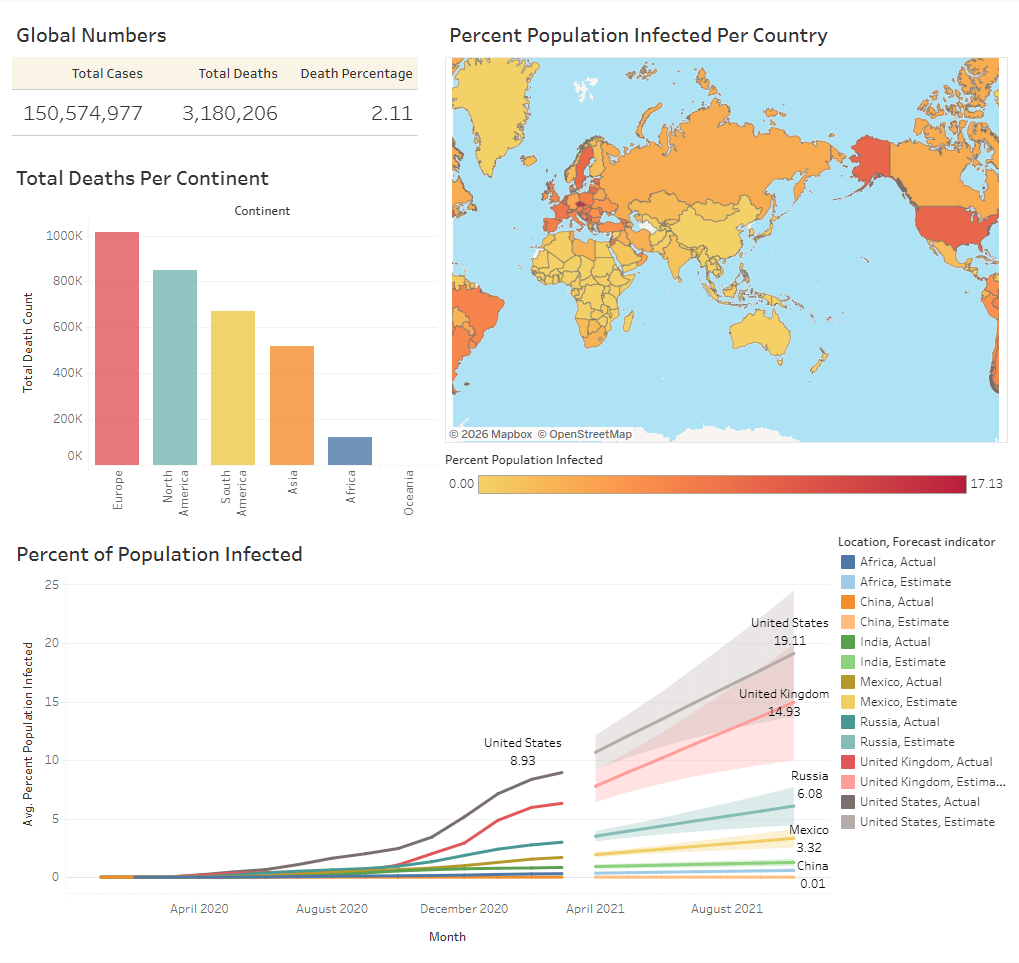

The page's visual inventory and layout, read from the dashboard file:
{"tool":"tableau","page":{"name":"Dashboard 1","canvas":[1000,800],"ordinal":0},"visuals":[{"type":"worksheet","title":"Sheet 1","mark":"Automatic","box":[8,8,437,127.1]},{"type":"worksheet","title":"Sheet 3","mark":"Automatic","box":[445,8,547,393.1]},{"type":"worksheet","title":"Sheet 2","mark":"Bar","rows":["TotalDeathCount"],"cols":["location"],"box":[8,135.1,437,300.9]},{"type":"legend","title":"Sheet 3","param":"[federated.0kodv280sw5ydo0zn9otw1hhfy9y].[sum:PercentPopulationInfected:qk]","box":[445,401.1,547,34.9]},{"type":"worksheet","title":"Sheet 4","mark":"Automatic","rows":["PercentPopulationInfected"],"cols":["date"],"box":[8,436,805,356]},{"type":"legend","title":"Sheet 4","param":"[federated.10ouaff0ygvhok183a90r19d3n0j].[none:location:nk]\n[federated.10ouaff0y","box":[813,436,179,356]}]}

Visuals, with their boxes on the page's 1000x800 design canvas (x1, y1, x2, y2). These are canvas units, not pixel positions in the 1019x963 screenshot, which may show the page scaled, cropped or inside an application window:
"Sheet 1" worksheet: 8,8,445,135
"Sheet 3" worksheet: 445,8,992,401
"Sheet 2" worksheet (Bar marks): 8,135,445,436
"Sheet 3" legend: 445,401,992,436
"Sheet 4" worksheet: 8,436,813,792
"Sheet 4" legend: 813,436,992,792
